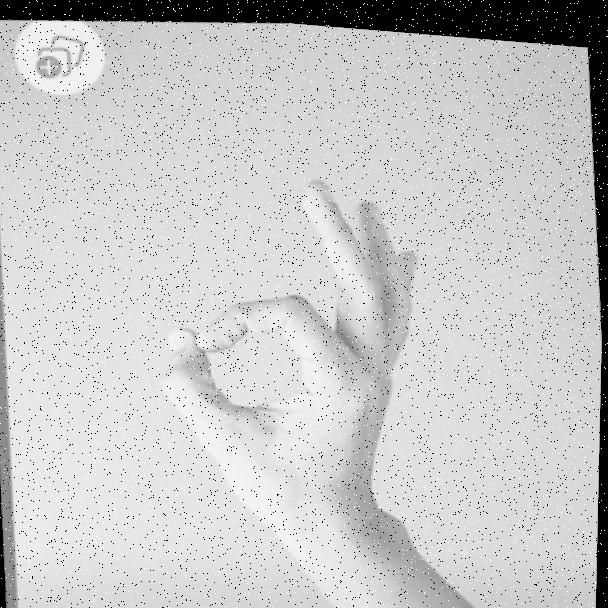five: (139, 154, 448, 545)
